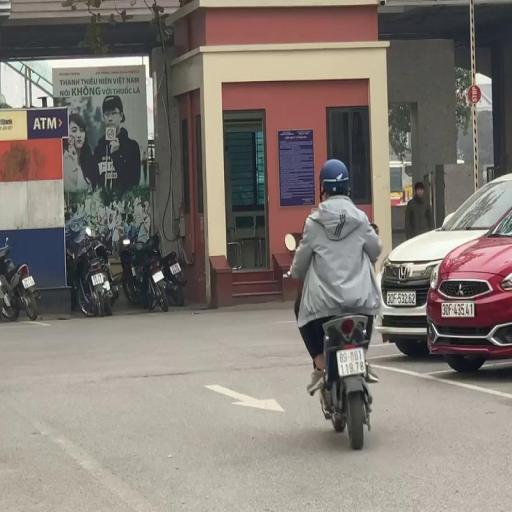bike: (282, 156, 384, 454)
numberplate: (336, 346, 368, 378), (21, 272, 35, 290), (90, 270, 104, 288), (168, 261, 182, 276), (152, 269, 164, 284)
with helmet: (316, 155, 351, 193)
